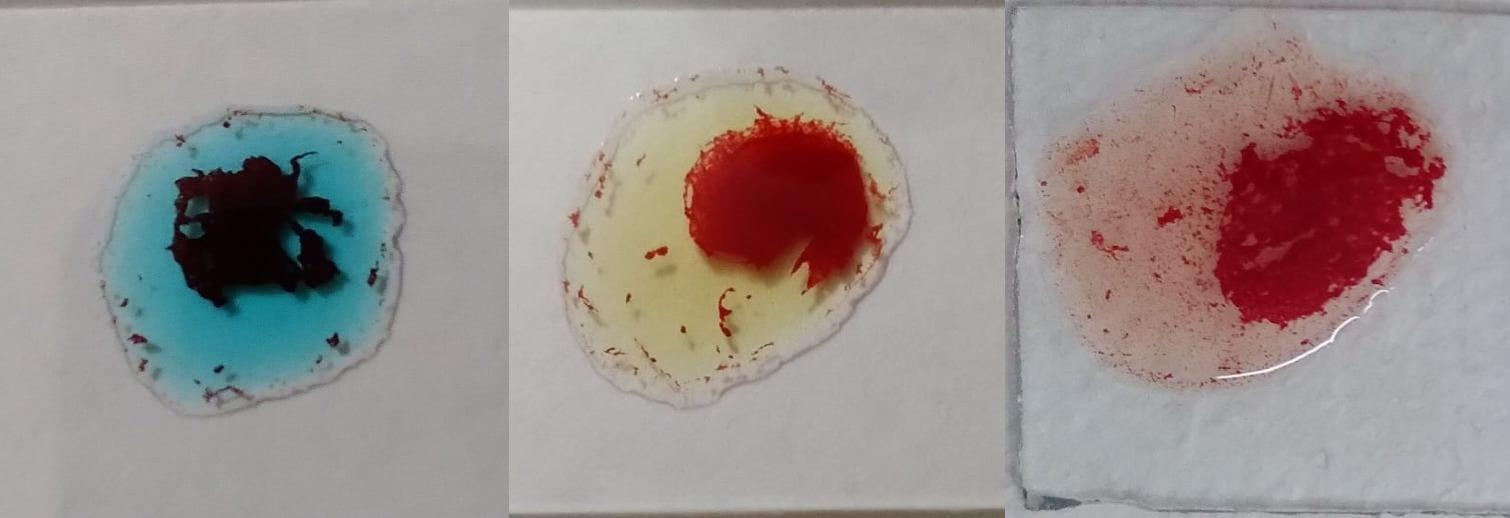A: (102, 97, 404, 414)
B: (559, 59, 898, 414)
D: (1072, 36, 1450, 404)
